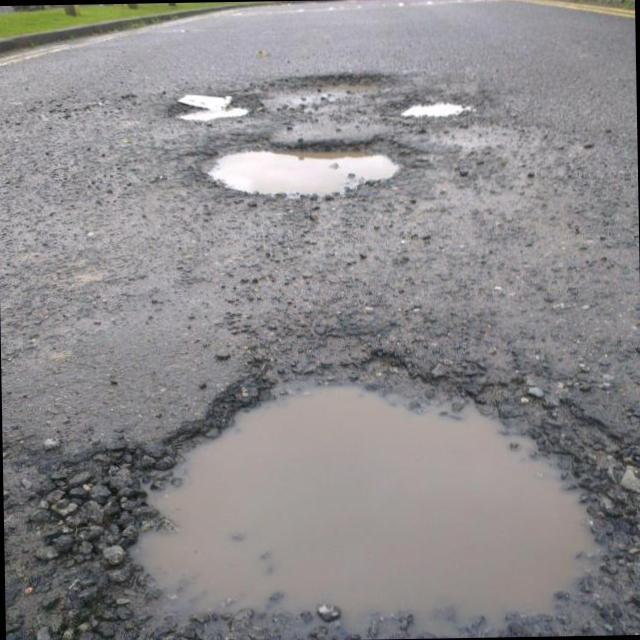Pothole: (134, 386, 594, 633), (209, 151, 397, 195), (179, 95, 245, 114), (403, 104, 468, 115)
